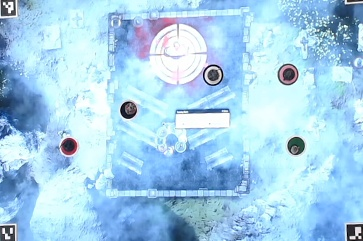black: (119, 100, 142, 123)
green: (286, 135, 309, 158)
pink_green: (276, 63, 299, 86)
red: (59, 137, 82, 160)
white: (202, 64, 225, 87)
